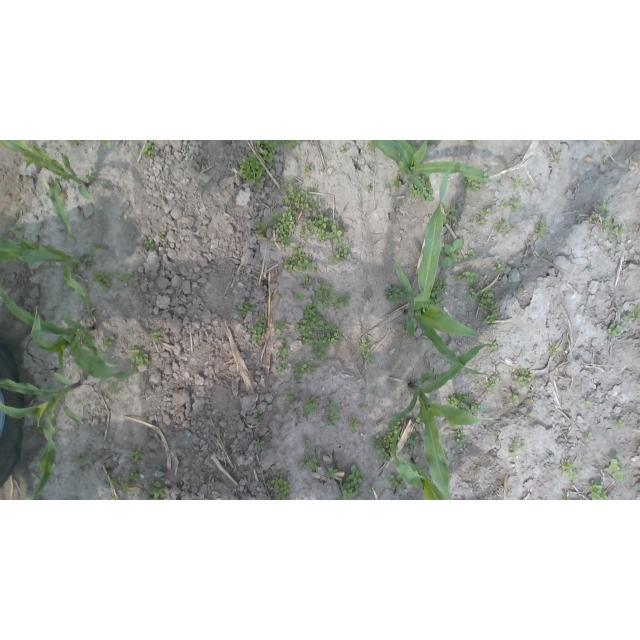Maize: (396, 161, 487, 376), (387, 344, 491, 501), (1, 282, 138, 383), (0, 373, 84, 500), (0, 141, 92, 240), (1, 226, 92, 312), (372, 141, 501, 190), (391, 436, 446, 500)
Weeds: (295, 304, 343, 362), (371, 417, 401, 463), (281, 180, 321, 213), (307, 212, 344, 245), (268, 209, 298, 249), (336, 464, 365, 501), (600, 203, 628, 238), (284, 245, 316, 275), (239, 153, 265, 189), (447, 392, 480, 419), (409, 173, 435, 203), (439, 239, 463, 270), (265, 472, 291, 500), (461, 167, 488, 193), (429, 275, 449, 310), (311, 283, 334, 310), (384, 284, 409, 308), (248, 314, 266, 346), (128, 348, 151, 372), (605, 458, 626, 483), (329, 242, 351, 265), (510, 368, 534, 388), (254, 140, 301, 150), (405, 426, 420, 456), (324, 401, 341, 426), (589, 480, 609, 501), (92, 272, 112, 293), (272, 318, 290, 341), (292, 360, 316, 377), (302, 396, 319, 420), (478, 288, 496, 310), (147, 480, 166, 500), (356, 338, 373, 360), (559, 459, 576, 481), (483, 374, 504, 391), (441, 203, 457, 225), (296, 455, 319, 470), (388, 473, 407, 491), (128, 445, 145, 465), (493, 220, 515, 235), (114, 268, 137, 282), (334, 291, 351, 309), (501, 197, 522, 211), (482, 309, 500, 325), (461, 270, 480, 285), (451, 428, 465, 448), (141, 141, 156, 158), (28, 422, 45, 437), (510, 439, 523, 457), (239, 301, 254, 316), (533, 219, 547, 235), (275, 360, 288, 377), (466, 283, 478, 301), (254, 223, 268, 238), (608, 323, 623, 337), (107, 379, 120, 395), (506, 391, 520, 405), (125, 470, 141, 482), (262, 149, 275, 163), (275, 344, 288, 358), (286, 390, 299, 404), (492, 261, 505, 275), (121, 481, 135, 494), (75, 453, 89, 466), (298, 225, 310, 240), (415, 412, 425, 428), (348, 418, 358, 433), (548, 341, 557, 357), (301, 439, 313, 451), (464, 249, 476, 261), (102, 337, 114, 349), (325, 468, 338, 479), (632, 307, 640, 324), (486, 340, 498, 351), (392, 176, 403, 188), (612, 418, 625, 428), (150, 330, 163, 340), (511, 178, 521, 191), (475, 216, 486, 227), (408, 140, 417, 153), (302, 278, 312, 289), (480, 208, 492, 217), (13, 200, 22, 212), (254, 439, 264, 449), (293, 292, 304, 301), (110, 475, 117, 489), (11, 224, 23, 232), (100, 140, 112, 148), (65, 140, 81, 146), (254, 411, 263, 421), (303, 163, 312, 173), (144, 240, 154, 249), (366, 140, 376, 149), (338, 144, 347, 154), (451, 272, 462, 280), (623, 312, 632, 321), (87, 172, 96, 181), (540, 251, 549, 259), (158, 231, 167, 239), (396, 164, 404, 173), (584, 400, 593, 408), (586, 431, 593, 441), (527, 411, 534, 421), (91, 244, 101, 251), (86, 262, 94, 270), (517, 284, 525, 292), (552, 154, 560, 162), (364, 185, 372, 193), (359, 403, 369, 409), (521, 183, 529, 190), (427, 140, 438, 145), (564, 496, 573, 501), (606, 140, 617, 144), (369, 486, 376, 492), (469, 140, 476, 146), (475, 466, 481, 472), (617, 412, 623, 417), (496, 441, 501, 447), (465, 372, 471, 376), (103, 181, 107, 187), (589, 218, 593, 223), (608, 160, 612, 165)
